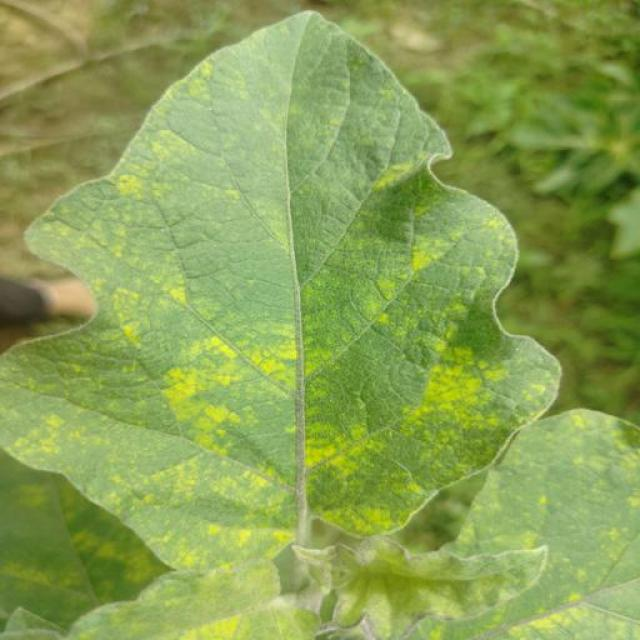leaf_spot: (408, 343, 510, 437), (167, 367, 250, 447), (261, 310, 325, 395), (303, 423, 386, 480), (189, 340, 249, 387), (206, 525, 289, 557), (117, 475, 201, 506), (334, 502, 406, 536), (31, 412, 76, 464), (368, 274, 407, 326), (232, 475, 293, 508), (146, 120, 185, 169), (432, 299, 485, 335), (376, 163, 424, 199), (399, 246, 449, 276), (157, 274, 192, 306), (216, 184, 256, 208), (193, 70, 224, 100), (108, 174, 150, 194), (107, 237, 127, 260), (113, 292, 134, 308), (124, 324, 138, 342)
